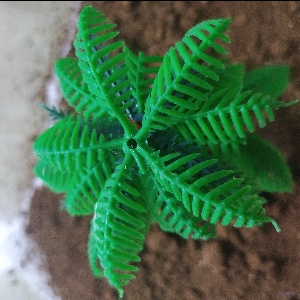plant: (34, 8, 300, 268)
